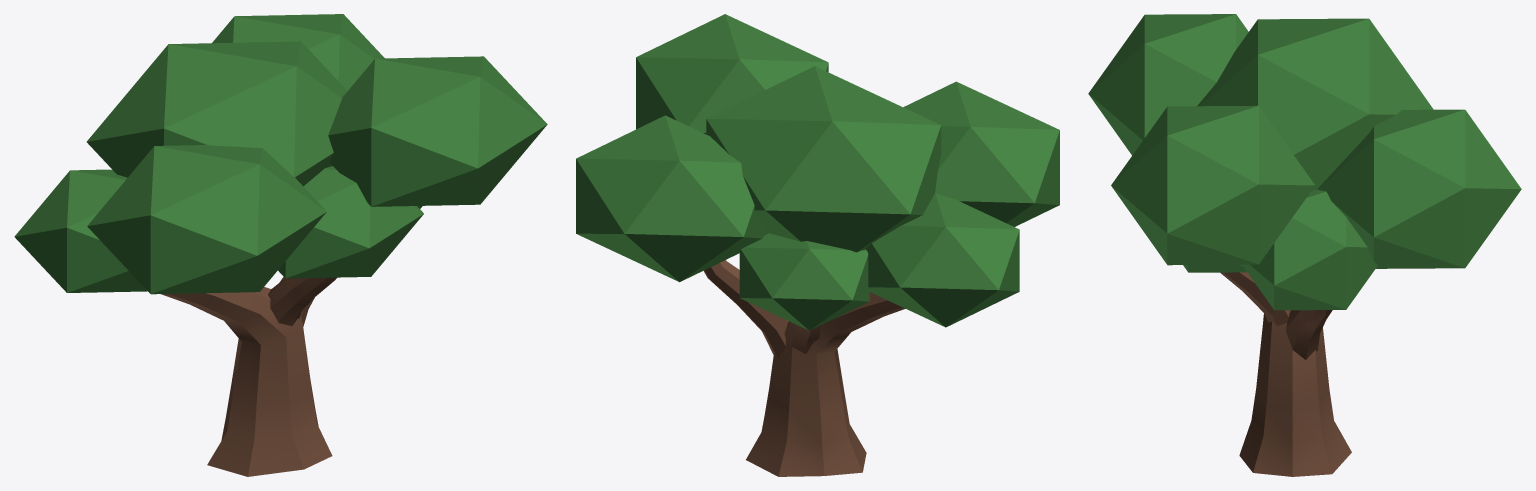
Rendered from Tree_Oak2.fbx.
3 renders of one model, left to right at view 1: azimuth 30°, elevation 25°; view 2: azimuth 150°, elevation 25°; view 3: azimuth 270°, elevation 25°, orthographic. The views are drawn at different scales.
Parts seen in each view (by area): view 1: oaktreeshort; view 2: oaktreeshort; view 3: oaktreeshort.
Part boxes in pixels (x1,y1,x2,y2): oaktreeshort: [14, 14, 547, 476]; oaktreeshort: [576, 14, 1059, 476]; oaktreeshort: [1088, 14, 1521, 476].
Bounding box in the file's own units: 1060 × 903 × 883.
